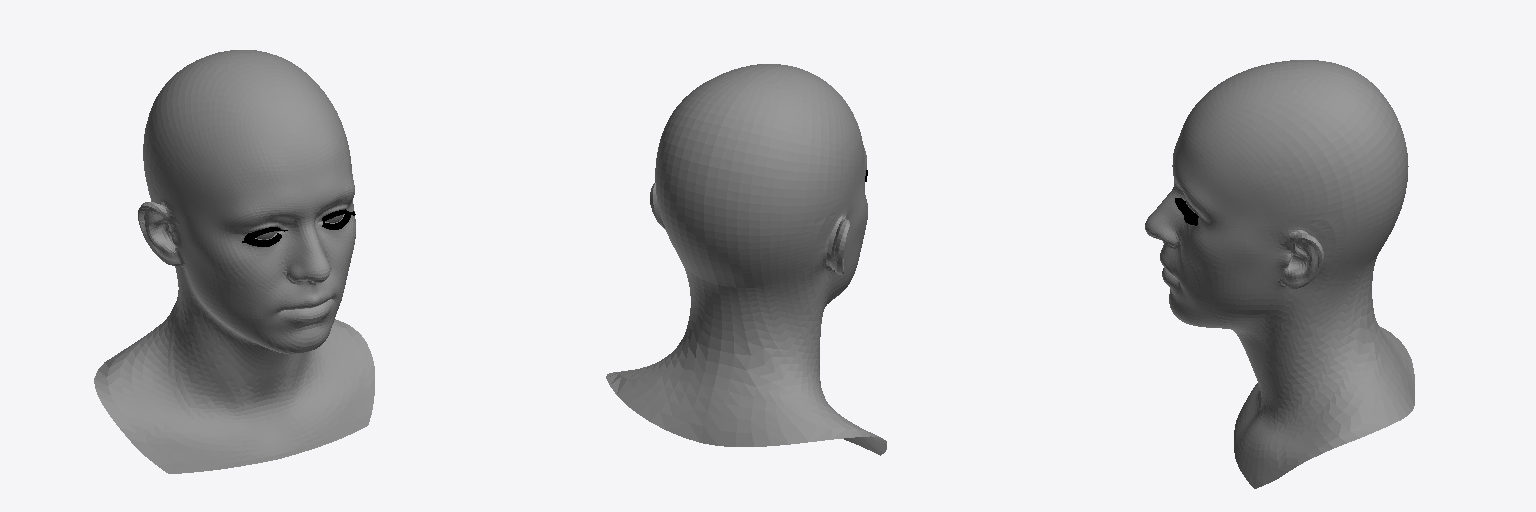
Rendered from identity010.obj.
3 renders of one model, left to right at view 1: azimuth 30°, elevation 25°; view 2: azimuth 150°, elevation 25°; view 3: azimuth 270°, elevation 25°, orthographic.
Bounding box in the file's own units: 24.91 × 33.77 × 22.14.